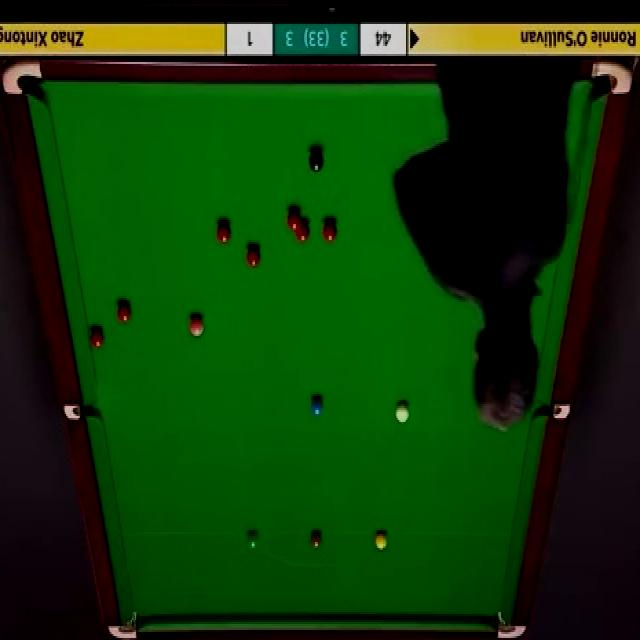pocket: (2, 57, 45, 95), (590, 60, 632, 95), (106, 608, 140, 640), (497, 612, 527, 640), (538, 402, 574, 422), (66, 405, 100, 420)
